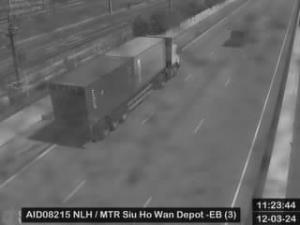truck: (50, 31, 180, 142)
vehicle: (231, 24, 252, 44)
